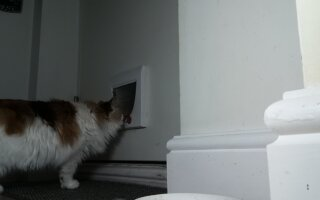clara: (5, 86, 129, 193)
